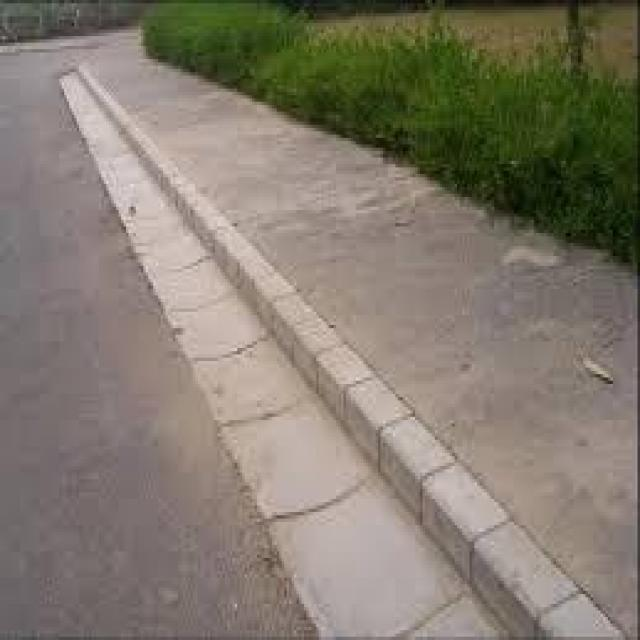curb: (429, 492, 639, 639), (308, 340, 462, 515), (198, 220, 342, 377), (124, 136, 225, 245), (76, 68, 139, 139)
